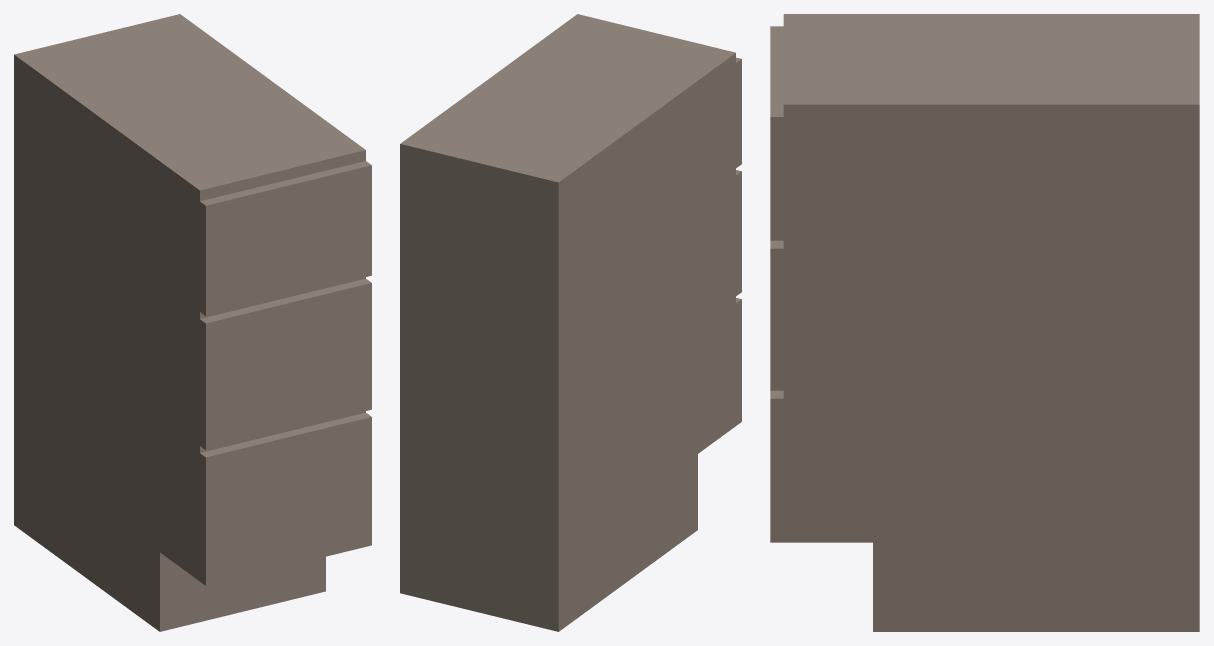
Rendered from Universal-Design-Base-Cabinet-Three-Drawer-24-Deep.std.glb.
3 views of the same model, side by side, from view 1: azimuth 30°, elevation 25°; view 2: azimuth 150°, elevation 25°; view 3: azimuth 270°, elevation 25° (orthographic). The views are drawn at different scales.
Parts seen in each view (by area): view 1: Universal-Design-Base-Cabinet-Three-Drawer-24-Deep.std.001; view 2: Universal-Design-Base-Cabinet-Three-Drawer-24-Deep.std.001; view 3: Universal-Design-Base-Cabinet-Three-Drawer-24-Deep.std.001.
Part boxes in pixels (x1=…): Universal-Design-Base-Cabinet-Three-Drawer-24-Deep.std.001: x1=14, y1=14, x2=371, y2=631; Universal-Design-Base-Cabinet-Three-Drawer-24-Deep.std.001: x1=400, y1=14, x2=741, y2=631; Universal-Design-Base-Cabinet-Three-Drawer-24-Deep.std.001: x1=770, y1=14, x2=1199, y2=631.
Bounding box in the file's own units: 0.3048 × 0.8255 × 0.6096.
